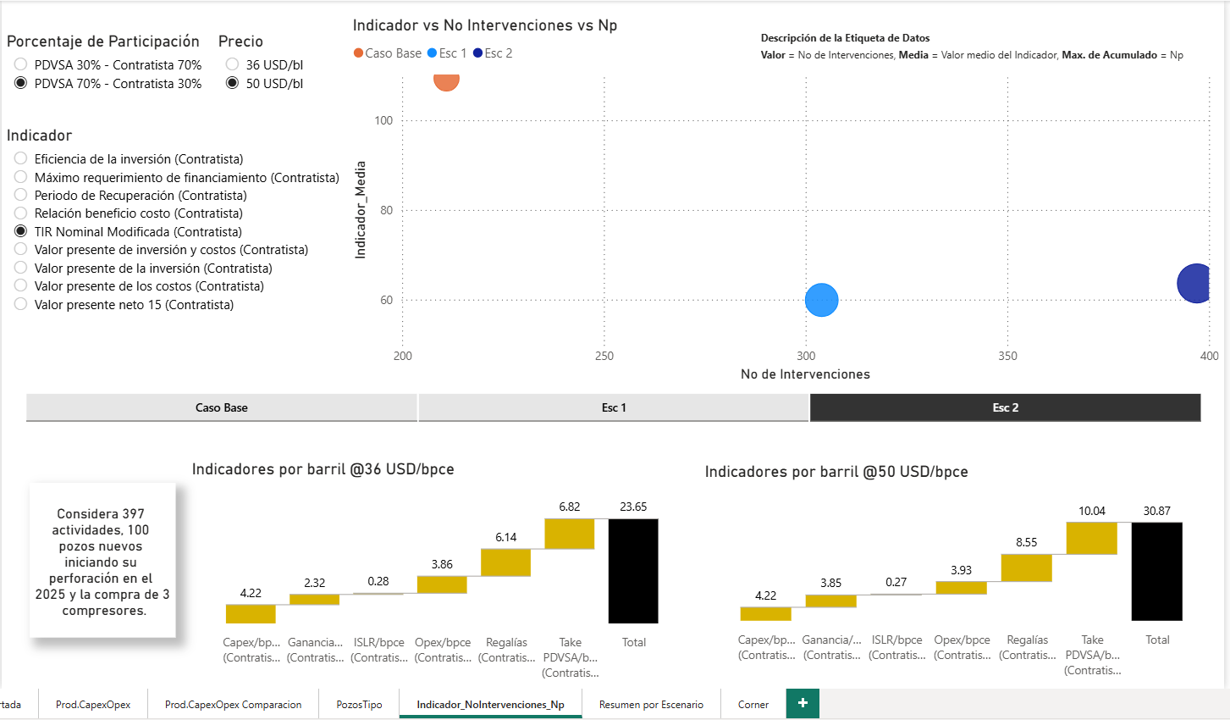

The page's visual inventory and layout, read from the dashboard file:
{"tool":"powerbi","page":{"name":"Indicador_NoIntervenciones_Np","canvas":[1280,720],"ordinal":4},"visuals":[{"type":"scatterChart","title":"Indicador vs No Intervenciones vs Np","fields":{"X":["Sum(Pozos.Valor)"],"Y":["Sum(PBI 3.Media)"],"Size":["Max(PBI MPP.Acumulado)"],"Series":["DescEscenarios.Escenario"]},"box":[363,15.4,917,387.9],"z":0},{"type":"slicer","title":"Indicador","fields":{"Values":["PBI 3.Indicador "]},"box":[0,130.3,363.3,203.2],"z":1000},{"type":"textbox","box":[790.1,23.7,479.3,54.6],"z":2000},{"type":"slicer","title":"Porcentaje de Participación","fields":{"Values":["PBI 3.Activo "]},"box":[0,31.6,222.2,81.4],"z":3000},{"type":"slicer","title":"Precio","fields":{"Values":["PBI 3.Agrupación"]},"box":[221.8,32,132.9,81.9],"z":4000},{"type":"slicer","fields":{"Values":["DescEscenarios.Escenario"]},"box":[0,404.2,1280,42.6],"z":5000},{"type":"waterfallChart","title":"Indicadores por barril @36 USD/bpce","fields":{"Y":["Sum(PBI 3.Media)"],"Category":["PBI 3.Indicador "]},"box":[193.9,479.8,526.6,239.2],"z":6000},{"type":"waterfallChart","title":"Indicadores por barril  @50 USD/bpce","fields":{"Y":["Sum(PBI 3.Media)"],"Category":["PBI 3.Indicador "]},"box":[731.4,482.6,538.9,233.7],"z":7000},{"type":"card","fields":{"Values":["Min(DescEscenarios.Descripcion)"]},"box":[28.9,504.6,152.6,162.2],"z":8000}]}

Visuals, with their boxes on the page's 1280x720 design canvas (x1, y1, x2, y2). These are canvas units, not pixel positions in the 1230x720 screenshot, which may show the page scaled, cropped or inside an application window:
"Indicador vs No Intervenciones vs Np" scatterChart: 363/15/1280/403
"Indicador" slicer: 0/130/363/334
textbox: 790/24/1269/78
"Porcentaje de Participación" slicer: 0/32/222/113
"Precio" slicer: 222/32/355/114
slicer - DescEscenarios.Escenario: 0/404/1280/447
"Indicadores por barril @36 USD/bpce" waterfallChart: 194/480/720/719
"Indicadores por barril  @50 USD/bpce" waterfallChart: 731/483/1270/716
card - Min(DescEscenarios.Descripcion): 29/505/182/667
